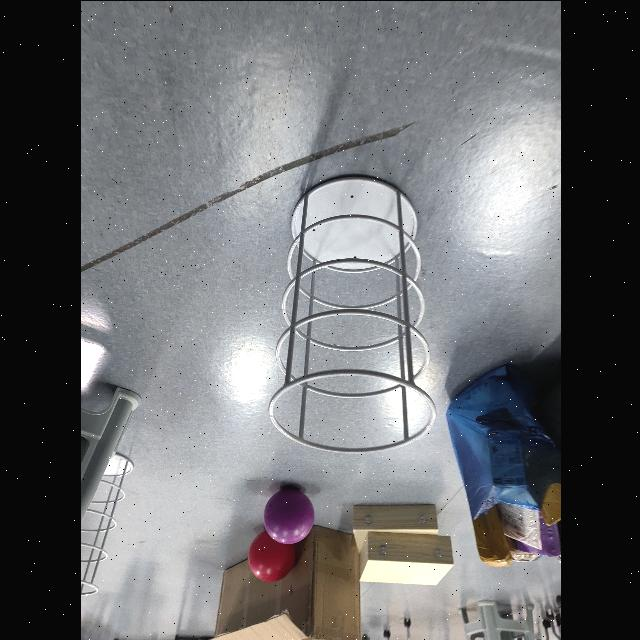S: (265, 168, 439, 456)
